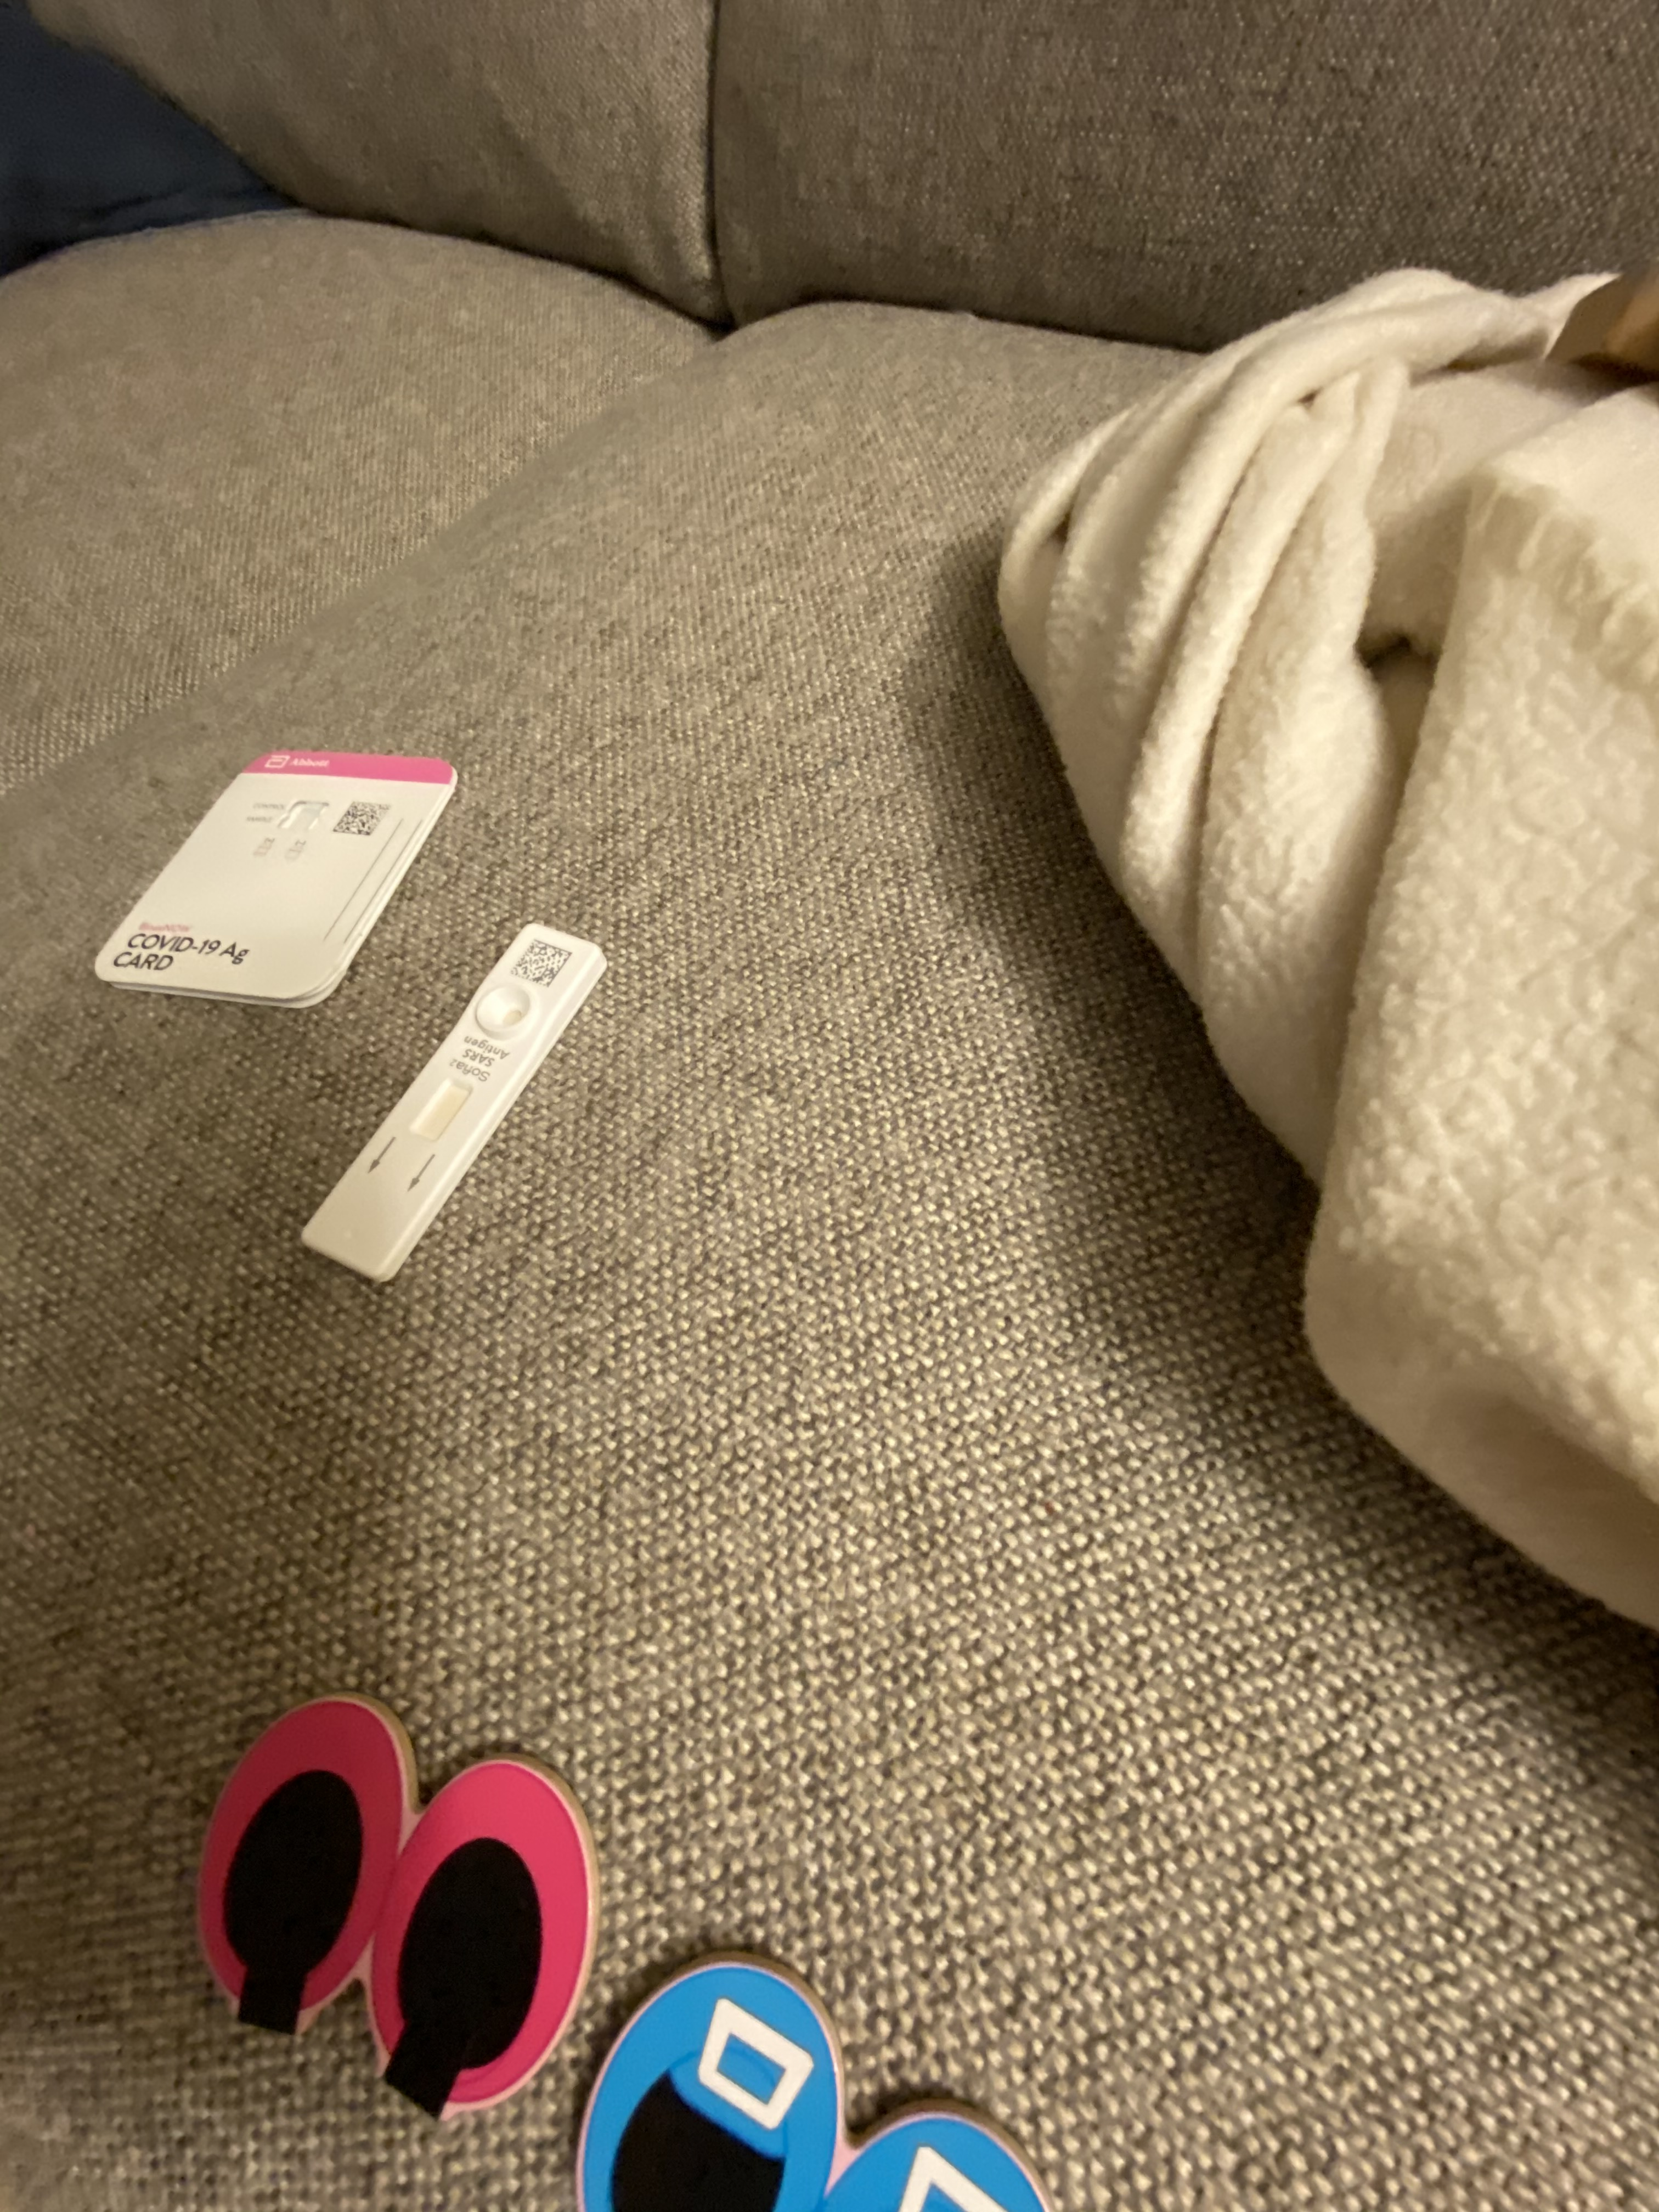binax: (89, 732, 465, 1017)
quidel: (298, 925, 601, 1291)
